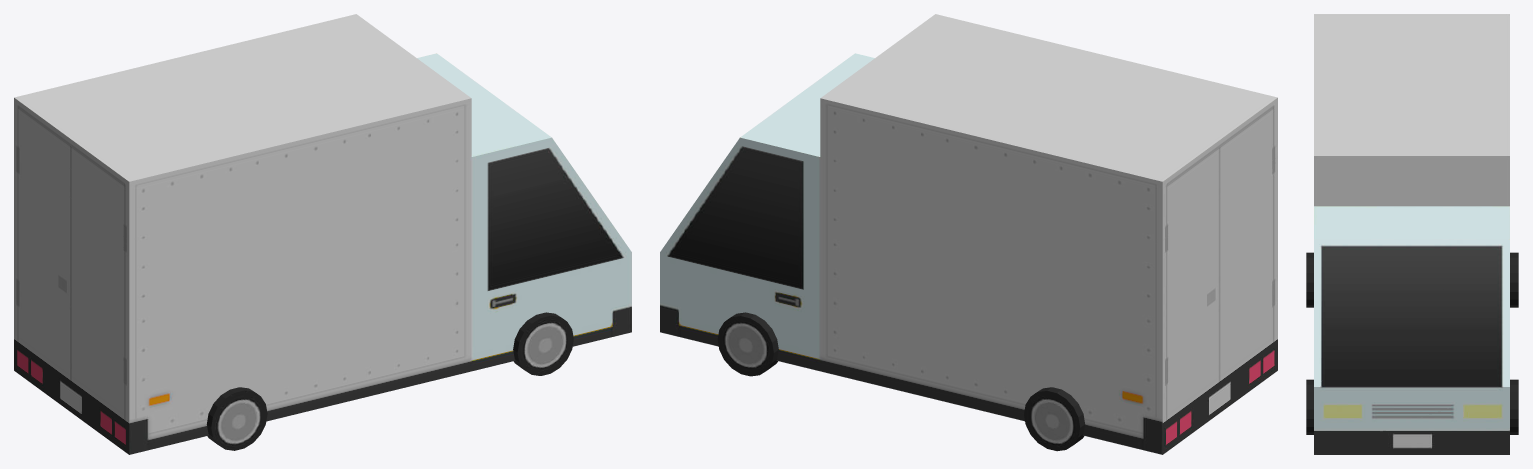
File: van.fbx
3 views of the same model, side by side, from view 1: azimuth 30°, elevation 25°; view 2: azimuth 150°, elevation 25°; view 3: azimuth 270°, elevation 25° (orthographic). The views are drawn at different scales.
Visible parts, largest first — view 1: Car_09; view 2: Car_09; view 3: Car_09.
Part boxes in pixels (x1,y1,x2,y2): Car_09: [14, 14, 631, 454]; Car_09: [660, 14, 1277, 454]; Car_09: [1306, 14, 1518, 454].
Size of the model in its own units: 121 by 66.63 by 51.85.
